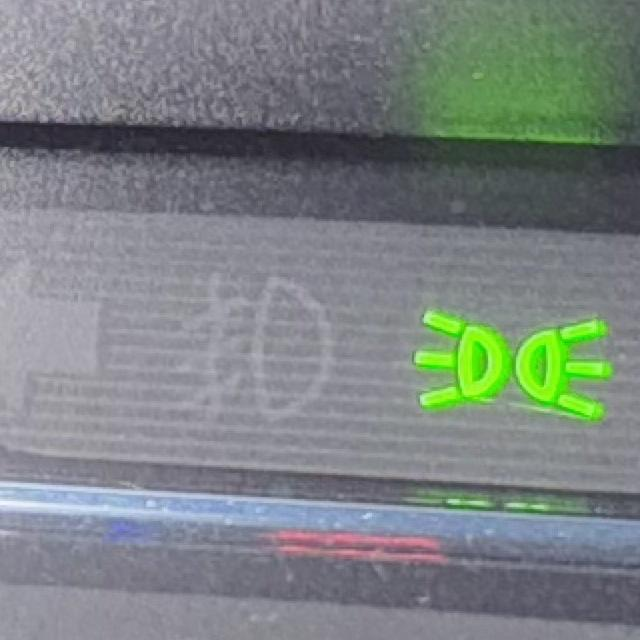Parking Light On: (413, 300, 614, 424)
